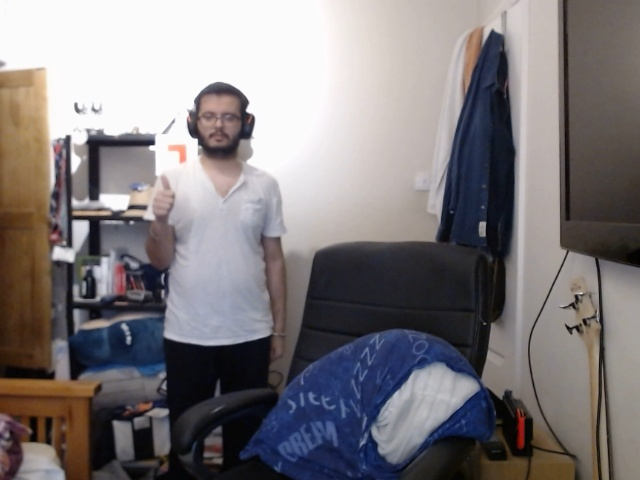Thumbs up: (145, 166, 186, 224)
